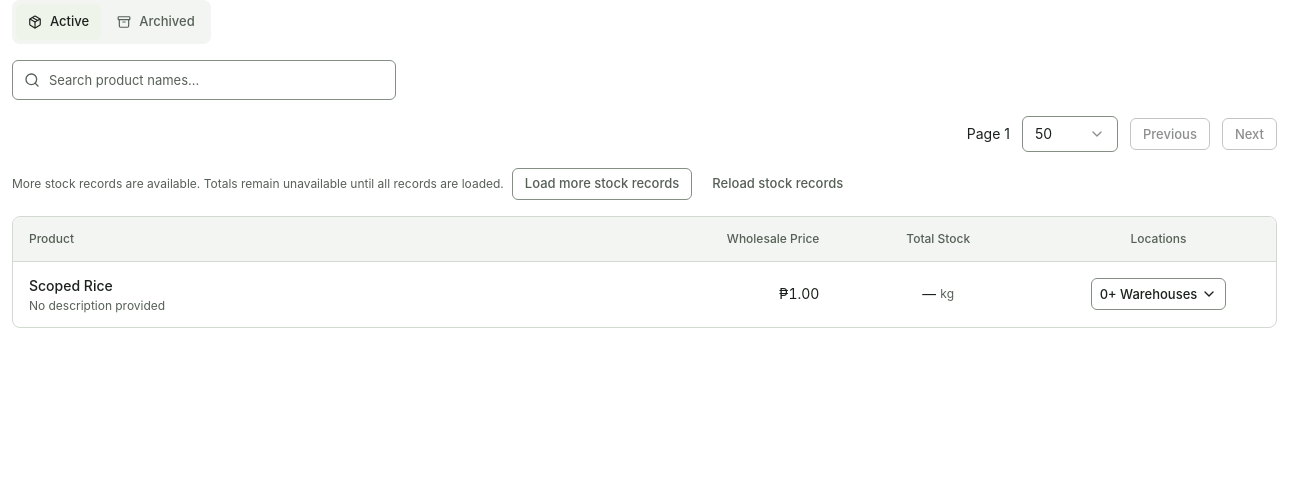
it: loads product stock locations from their scoped endpoint across multiple pages
Expected: the text "Scoped Rice" is shown, [29,276,113,296]
Click the button with aria-label "Show stock by location for Scoped Rice" at (1159, 294), box [1091,278,1226,310]
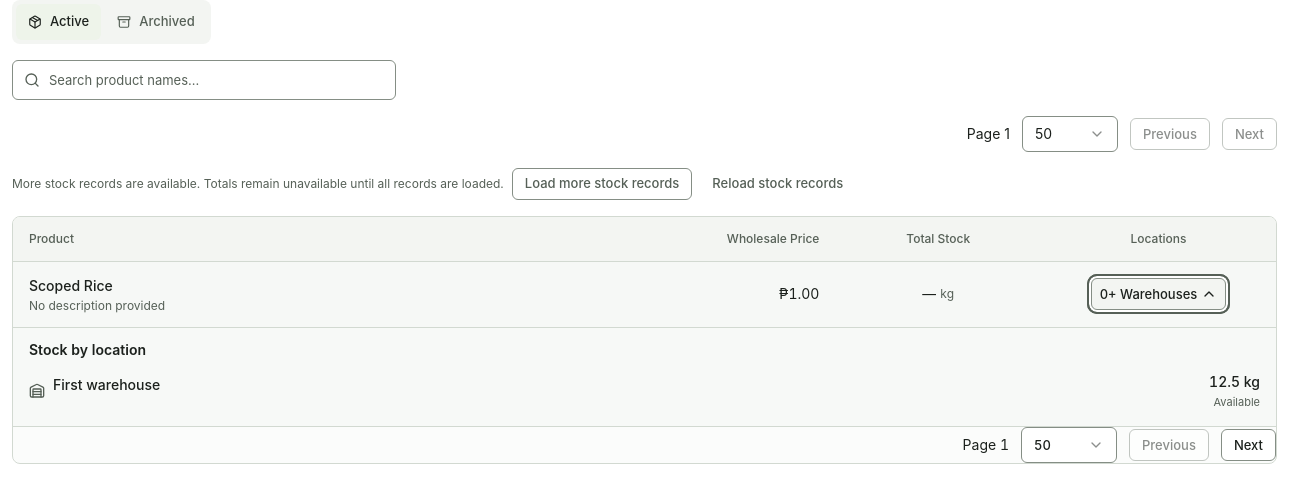
Result: the text "First warehouse" is shown at [53,376,160,393]
Click the button "Next" below "12.5" at (1248, 445), box [1221,429,1276,461]
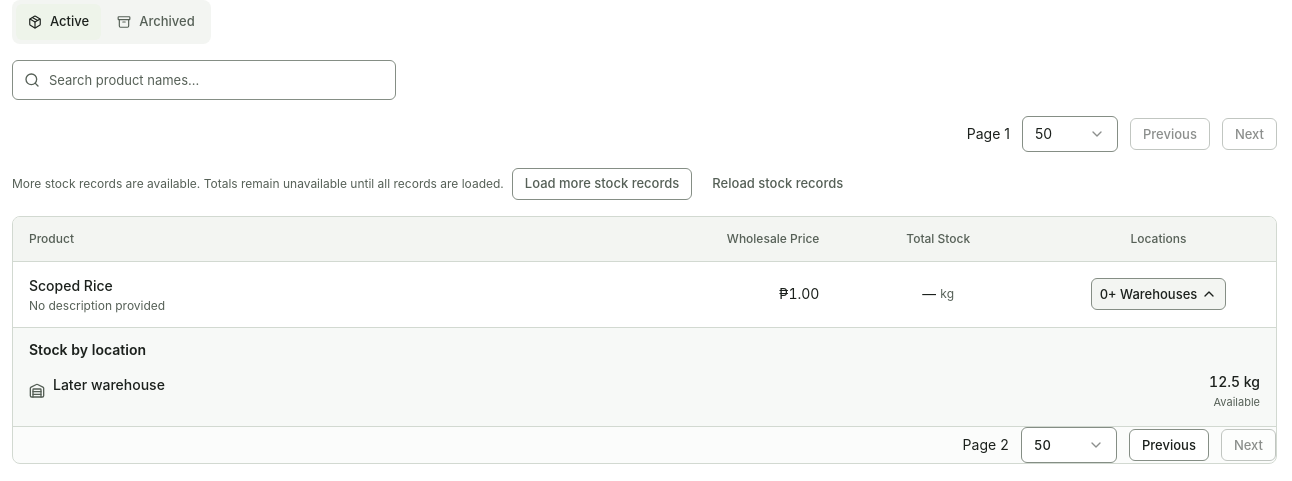
Result: the text "Later warehouse" is shown at [53,376,165,393]
Result: the text "First warehouse" is gone
Click the button "Previous" below "12.5" at (1169, 445), box [1129,429,1209,461]
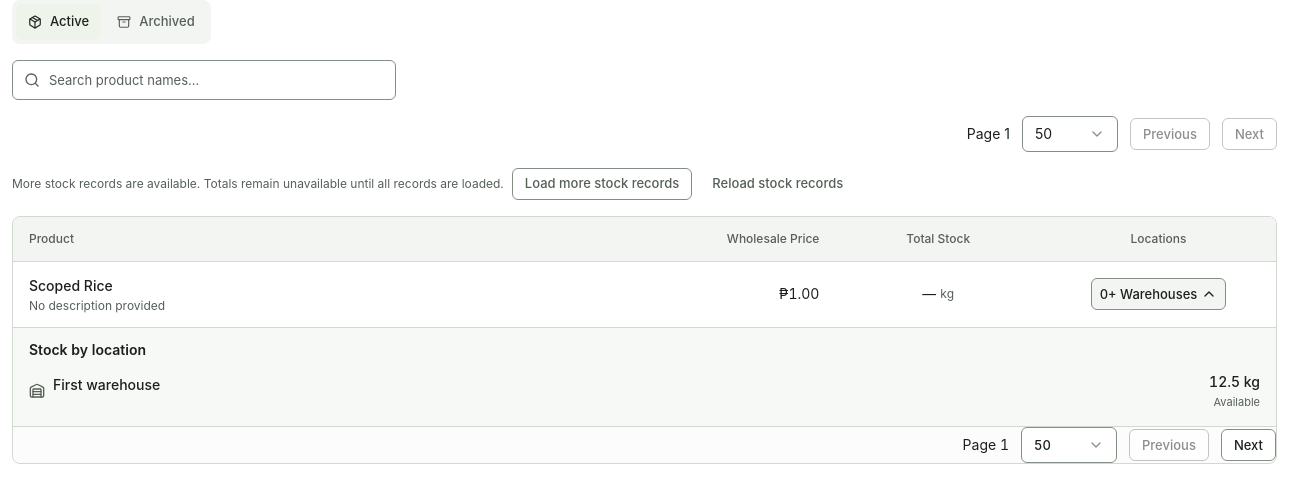
Result: the text "First warehouse" is shown at [53,376,160,393]
